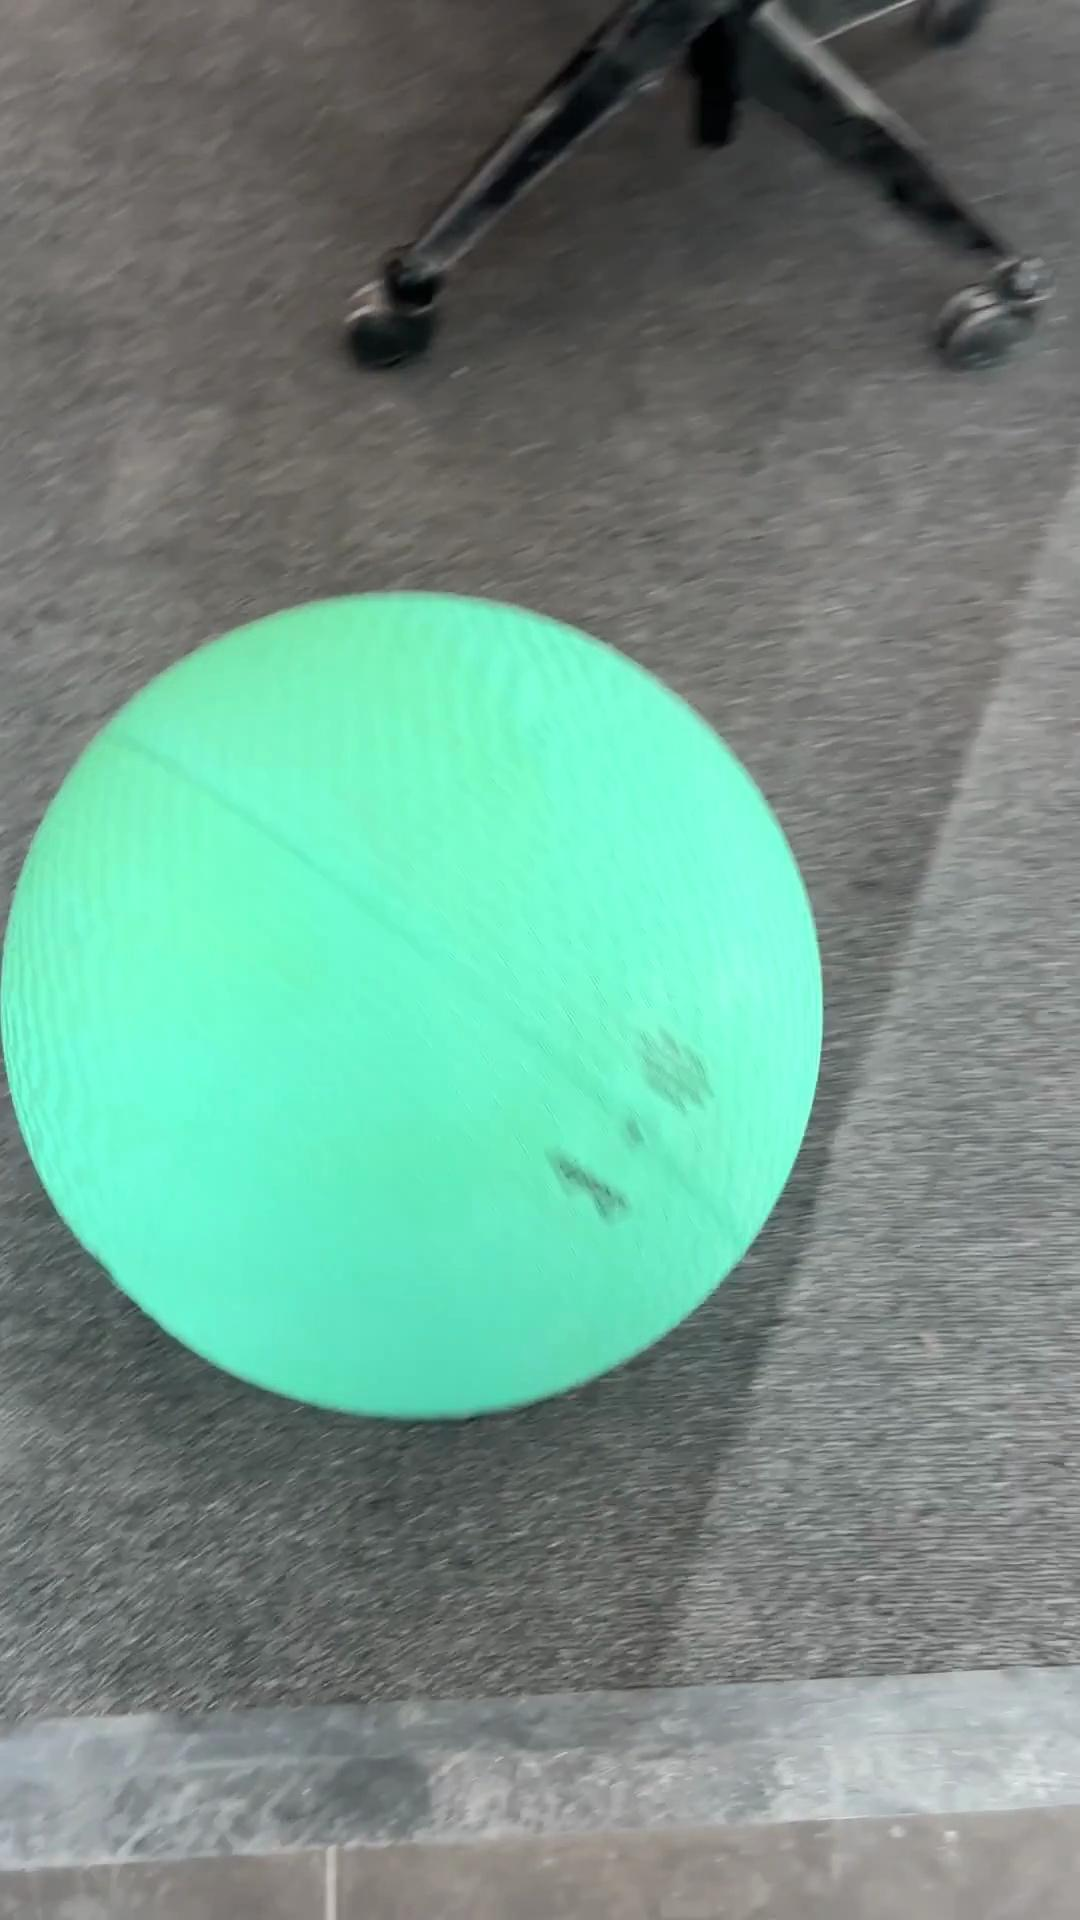ALGAE: (3, 585, 825, 1424)
